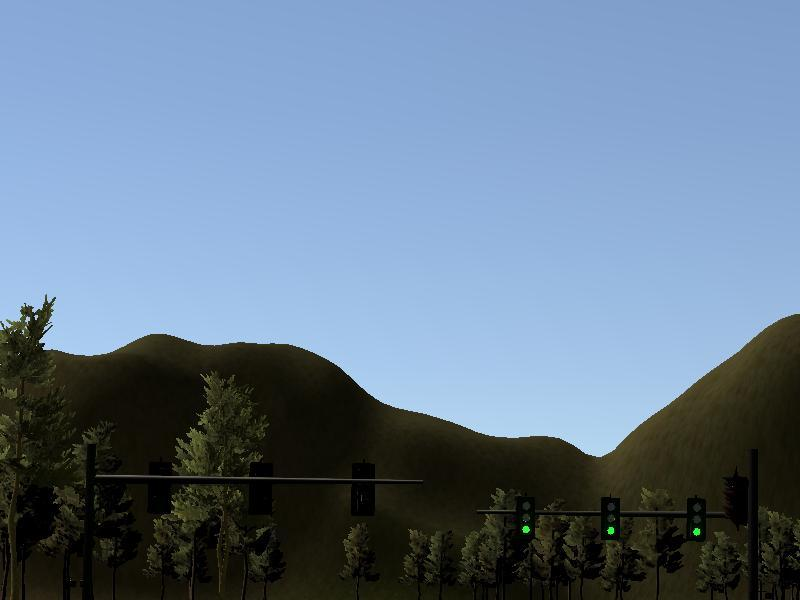Green: (687, 499, 706, 542), (600, 496, 619, 539), (515, 496, 534, 539)
